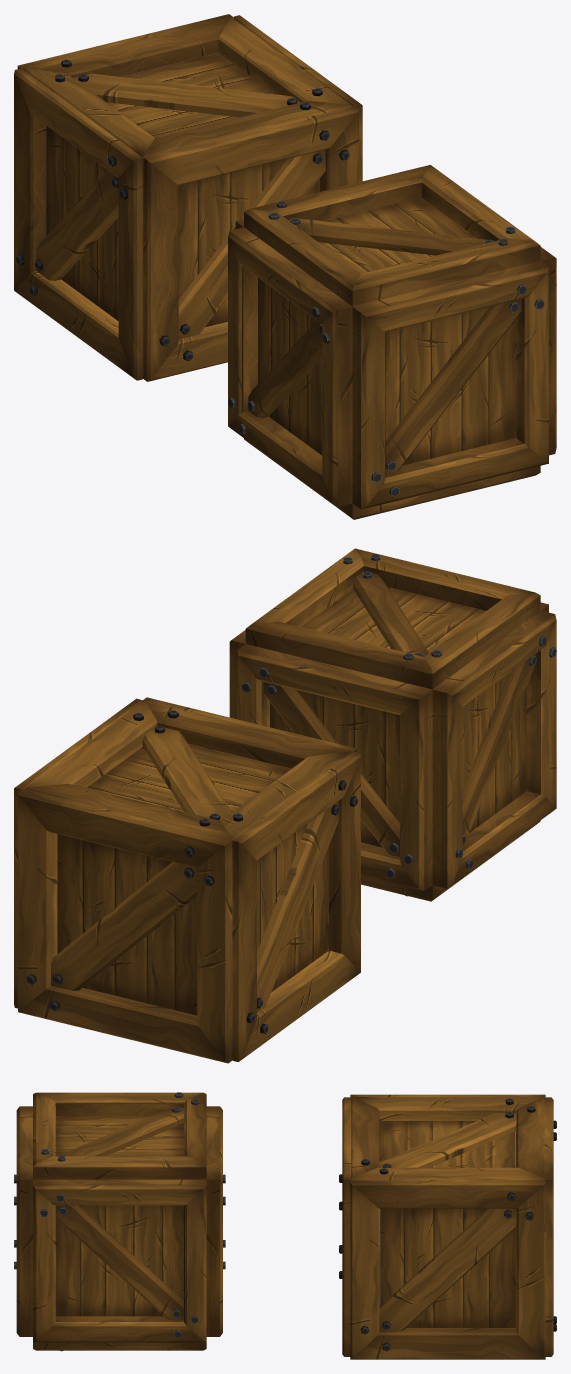
File: HandPaintedCrates.fbx
3 views of the same model, one above another, from view 1: azimuth 30°, elevation 25°; view 2: azimuth 150°, elevation 25°; view 3: azimuth 270°, elevation 25° (orthographic). The views are drawn at different scales.
Parts seen in each view (by area): view 1: Crate02, Crate01; view 2: Crate01, Crate02; view 3: Crate01, Crate02.
Boxes of the visible parts, x1,y1,x2,y2 form: Crate02: (228,165,556,519); Crate01: (14,14,362,381); Crate01: (14,697,360,1063); Crate02: (229,548,556,901); Crate01: (339,1094,556,1359); Crate02: (14,1092,225,1351).
Size of the model in its own units: 223 by 217 by 556.
2 materials, 2 textured.
